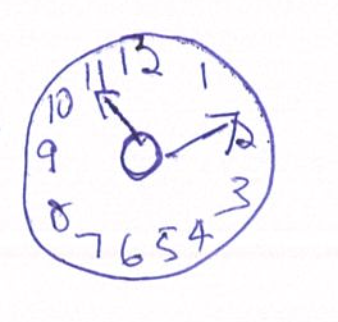1: (196, 61, 214, 91)
10: (46, 86, 74, 126)
11: (82, 59, 107, 92)
12: (116, 45, 167, 78)
2: (229, 118, 258, 150)
3: (213, 176, 253, 216)
4: (187, 217, 214, 254)
5: (155, 226, 180, 264)
6: (119, 232, 144, 270)
7: (73, 230, 103, 261)
8: (46, 195, 73, 235)
9: (35, 136, 59, 177)
contour: (18, 29, 278, 283)
hand: (94, 90, 240, 178)
top_left_arrow: (93, 88, 144, 145)
top_right_arrow: (164, 110, 243, 162)
